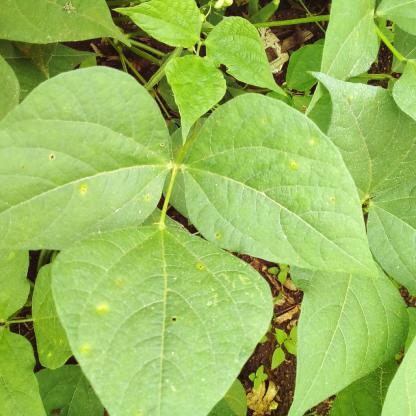Beans_Rust: (52, 229, 271, 416), (183, 93, 378, 279), (0, 67, 175, 252), (322, 72, 416, 205)
